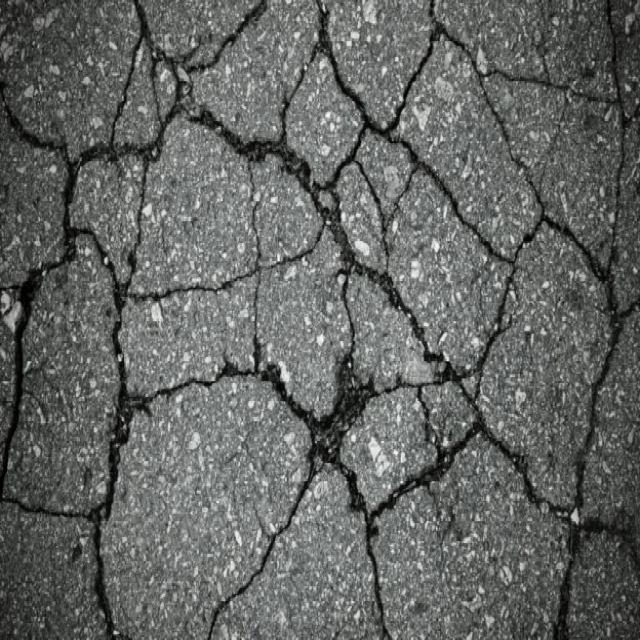Drain Hole: (49, 29, 640, 602)
